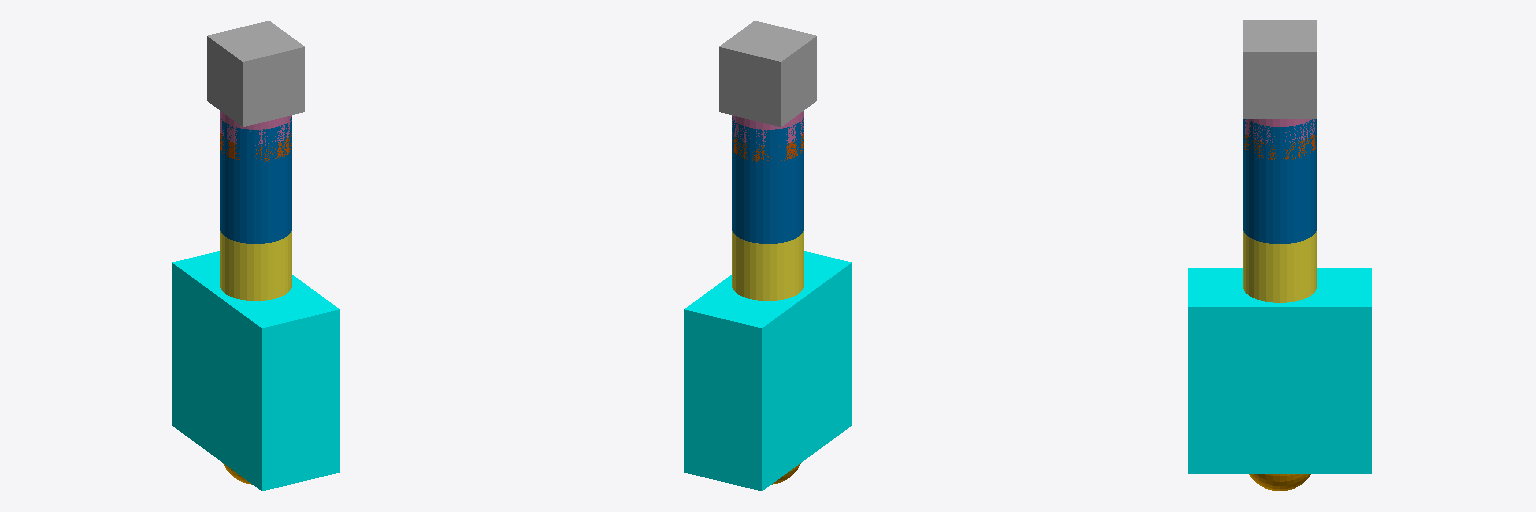
URDF robot description (zebra_zero):
<robot name="zebra_zero">
  <link name="base_link">
    <visual>
      <origin rpy="0 0 0" xyz="0 0 0"/>
      <geometry>
        <sphere radius="0.1"/>
      </geometry>
    </visual>
    <collision>
      <origin rpy="0 0 0" xyz="0 0 0"/>
      <geometry>
        <cylinder length="0.5" radius="0.05"/>
      </geometry>
    </collision>
    <inertial>
      <mass value="1"/>
      <inertia ixx="1.0" ixy="0.0" ixz="0.0" iyy="1.0" iyz="0.0" izz="1.0"/>
    </inertial>
  </link>
  <link name="world"/>
  <joint name="base_joint" type="fixed">
    <parent link="world"/>
    <child link="base_link"/>
    <origin rpy="-1.57 0 0" xyz="0 0 0"/>
    <axis xyz="0 0 1"/>
  </joint>
  <link name="first_link">
    <visual>
      <origin rpy="0 0 0" xyz="0 0 0.25"/>
      <geometry>
        <box size="0.25 0.5 0.5"/>
      </geometry>
      <material name="blue">
        <color rgba="0 1.0 1.0 1.0"/>
      </material>
    </visual>
    <collision>
      <origin rpy="0 0 0" xyz="0 0 0"/>
      <geometry>
        <box size="0.35 0.7 0.7"/>
      </geometry>
    </collision>
    <inertial>
      <mass value="1"/>
      <inertia ixx="1.0" ixy="0.0" ixz="0.0" iyy="1.0" iyz="0.0" izz="1.0"/>
    </inertial>
  </link>
  <joint name="first_joint" type="revolute">
    <parent link="base_link"/>
    <child link="first_link"/>
    <origin rpy="1.57 0 0" xyz="0 0 0"/>
    <axis xyz="0 0 1"/>
    <!-- TODO: Fix this -->
    <limit effort="30" velocity="1.0" lower="-2.2" upper="0.7" />
  </joint>
  <link name="second_link">
    <visual>
      <origin rpy="0 0 0" xyz="0 0 0.25"/>
      <geometry>
        <cylinder length="0.35" radius="0.1"/>
      </geometry>
    </visual>
    <collision>
      <origin rpy="0 0 0" xyz="0 0 0"/>
      <geometry>
        <cylinder length="0.35" radius="0.05"/>
      </geometry>
    </collision>
    <inertial>
      <mass value="1"/>
      <inertia ixx="1.0" ixy="0.0" ixz="0.0" iyy="1.0" iyz="0.0" izz="1.0"/>
    </inertial>
  </link>
  <joint name="second_joint" type="revolute">
    <parent link="first_link"/>
    <child link="second_link"/>
    <origin rpy="0 0 0" xyz="0 0 0.25"/>
    <axis xyz="0 1 0"/>
    <!-- TODO: Fix this -->
    <limit effort="30" velocity="1.0" lower="-2.2" upper="0.7" />
  </joint>
  <link name="third_link">
    <visual>
      <origin rpy="0 0 0" xyz="0 0 0.25"/>
      <geometry>
        <cylinder length="0.35" radius="0.1"/>
      </geometry>
    </visual>
    <collision>
      <origin rpy="0 0 0" xyz="0 0 0.25"/>
      <geometry>
        <cylinder length="0.35" radius="0.05"/>
      </geometry>
    </collision>
    <inertial>
      <mass value="1"/>
      <inertia ixx="1.0" ixy="0.0" ixz="0.0" iyy="1.0" iyz="0.0" izz="1.0"/>
    </inertial>
  </link>
  <joint name="third_joint" type="revolute">
    <parent link="second_link"/>
    <child link="third_link"/>
    <origin rpy="0 0 0" xyz="0 0 0.35"/>
    <axis xyz="0 1 0"/>
    <!-- TODO: Fix this -->
    <limit effort="30" velocity="1.0" lower="-2.2" upper="0.7" />
  </joint>
  <link name="fourth_link">
    <visual>
      <origin rpy="0 0 0" xyz="0 0 0"/>
      <geometry>
        <cylinder length="0.05" radius="0.1"/>
      </geometry>
    </visual>
    <collision>
      <origin rpy="0 0 0" xyz="0 0 0"/>
      <geometry>
        <cylinder length="0.5" radius="0.05"/>
      </geometry>
    </collision>
    <inertial>
      <mass value="1"/>
      <inertia ixx="1.0" ixy="0.0" ixz="0.0" iyy="1.0" iyz="0.0" izz="1.0"/>
    </inertial>
  </link>
  <joint name="fourth_joint" type="revolute">
    <parent link="third_link"/>
    <child link="fourth_link"/>
    <origin rpy="0 0 0" xyz="0 0 0.35"/>
    <axis xyz="0 0 1"/>
    <!-- TODO: Fix this -->
    <limit effort="30" velocity="1.0" lower="-2.2" upper="0.7" />
  </joint>
  <link name="fifth_link">
    <visual>
      <origin rpy="0 0 0" xyz="0 0 0"/>
      <geometry>
        <cylinder length="0.15" radius="0.1"/>
      </geometry>
    </visual>
    <collision>
      <origin rpy="0 0 0" xyz="0 0 0"/>
      <geometry>
        <cylinder length="0.5" radius="0.05"/>
      </geometry>
    </collision>
    <inertial>
      <mass value="1"/>
      <inertia ixx="1.0" ixy="0.0" ixz="0.0" iyy="1.0" iyz="0.0" izz="1.0"/>
    </inertial>
  </link>
  <joint name="fifth_joint" type="revolute">
    <parent link="fourth_link"/>
    <child link="fifth_link"/>
    <origin rpy="0 0 0" xyz="0 0 0.1"/>
    <axis xyz="0 1 0"/>
    <!-- TODO: Fix this -->
    <limit effort="30" velocity="1.0" lower="-2.2" upper="0.7" />
  </joint>
  <link name="sixth_link">
    <visual>
      <origin rpy="0 0 0" xyz="0 0 0"/>
      <geometry>
        <box size="0.2 0.2 0.2"/>
      </geometry>
    </visual>
    <collision>
      <origin rpy="0 0 0" xyz="0 0 0"/>
      <geometry>
        <cylinder length="0.1" radius="0.05"/>
      </geometry>
    </collision>
    <inertial>
      <mass value="1"/>
      <inertia ixx="1.0" ixy="0.0" ixz="0.0" iyy="1.0" iyz="0.0" izz="1.0"/>
    </inertial>
  </link>
  <joint name="sixth_joint" type="revolute">
    <parent link="fifth_link"/>
    <child link="sixth_link"/>
    <origin rpy="0 0 0" xyz="0 0 0.1"/>
    <axis xyz="0 0 1"/>
    <!-- TODO: Fix this -->
    <limit effort="30" velocity="1.0" lower="-2.2" upper="0.7" />
  </joint>

  <ros2_control name="zebra_zero" type="system">
    <hardware>
      <plugin>zebra_zero/RobotSystem</plugin>
    </hardware>
    <joint name="first_joint">
      <command_interface name="position">
        <param name="min">{-pi}</param>
        <param name="max">{pi}</param>
      </command_interface>
      <!-- additional command interfaces ... -->
      <state_interface name="position">
        <param name="initial_value">0.0</param>
      </state_interface>
      <!-- additional state interfaces ... -->
    </joint>
    <joint name="second_joint">
      <command_interface name="position">
        <param name="min">{-pi/2 + 0.5}</param>
        <param name="max">0.5</param>
      </command_interface>
      <!-- additional command interfaces ... -->
      <state_interface name="position">
        <param name="initial_value">{-pi/2}</param>
      </state_interface>
      <!-- additional state interfaces ... -->
    </joint>
      <joint name="third_joint">
      <command_interface name="position">
        <param name="min">{-pi/2 + 0.5}</param>
        <param name="max">{pi/2}</param>
      </command_interface>
      <!-- additional command interfaces ... -->
      <state_interface name="position">
        <param name="initial_value">{-pi/2}</param>
      </state_interface>
      <!-- additional state interfaces ... -->
    </joint>
    <joint name="fourth_joint">
      <command_interface name="position">
        <param name="min">{-pi}</param>
        <param name="max">{pi}</param>
      </command_interface>
      <!-- additional command interfaces ... -->
      <state_interface name="position">
        <param name="initial_value">0.0</param>
      </state_interface>
      <!-- additional state interfaces ... -->
    </joint>
    <joint name="fifth_joint">
      <command_interface name="position">
        <param name="min">{-pi}</param>
        <param name="max">{pi}</param>
      </command_interface>
      <!-- additional command interfaces ... -->
      <state_interface name="position">
        <param name="initial_value">{pi/2}</param>
      </state_interface>
      <!-- additional state interfaces ... -->
    </joint>
    <joint name="sixth_joint">
      <command_interface name="position">
        <param name="min">{-pi}</param>
        <param name="max">{pi}</param>
      </command_interface>
      <!-- additional command interfaces ... -->
      <state_interface name="position">
        <param name="initial_value">0.0</param>
      </state_interface>
      <!-- additional state interfaces ... -->
    </joint>
    <!-- additional joints ...-->
    <!-- additional hardware/sensors ...-->
  </ros2_control>
</robot>

--- Render facts (derived) ---
The picture shows the robot from 3 angles, left to right: view 1: azimuth 30°, elevation 25°; view 2: azimuth 150°, elevation 25°; view 3: azimuth 270°, elevation 25°; orthographic projection.
Robot: zebra_zero — 8 links, 7 joints (6 revolute, 1 fixed); root link world; default pose: all joints at 0.
Visible links, largest first — view 1: first_link, sixth_link, third_link, second_link, fifth_link; view 2: first_link, sixth_link, third_link, second_link, fifth_link; view 3: first_link, third_link, sixth_link, second_link, base_link, fifth_link.
Boxes of the visible links, bbox=[...] form: first_link: bbox=[172, 251, 339, 490]; sixth_link: bbox=[207, 21, 304, 126]; third_link: bbox=[220, 117, 291, 243]; second_link: bbox=[220, 231, 291, 300]; fifth_link: bbox=[220, 111, 291, 145]; first_link: bbox=[684, 251, 851, 490]; sixth_link: bbox=[719, 21, 816, 126]; third_link: bbox=[732, 117, 803, 243]; second_link: bbox=[732, 231, 803, 300]; fifth_link: bbox=[732, 111, 803, 145]; first_link: bbox=[1188, 268, 1371, 473]; third_link: bbox=[1243, 119, 1316, 243]; sixth_link: bbox=[1243, 20, 1316, 118]; second_link: bbox=[1243, 231, 1316, 302]; base_link: bbox=[1249, 474, 1310, 490]; fifth_link: bbox=[1245, 119, 1314, 142].
Bounding box of the posed robot: 0.25 × 0.5 × 1.35 m (x, y, z).
Geometry: primitives only (box / cylinder / sphere), no mesh files.
